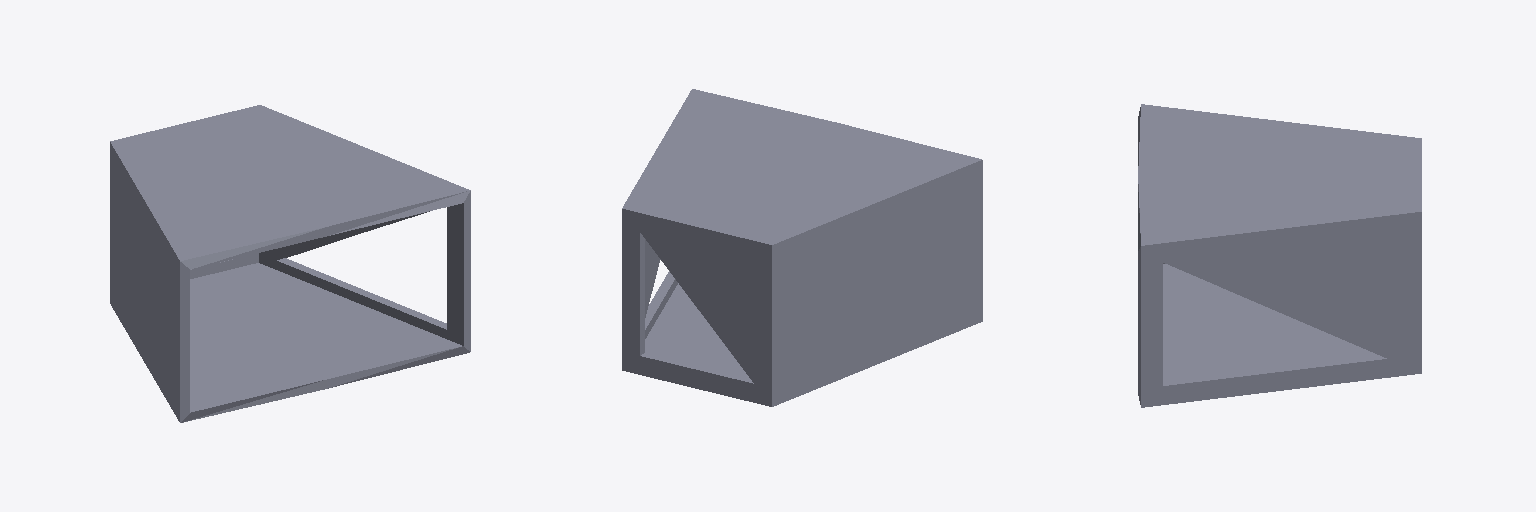
The model's file is observatory2.obj.
3 renders of one model, left to right at view 1: azimuth 30°, elevation 25°; view 2: azimuth 150°, elevation 25°; view 3: azimuth 270°, elevation 25°, orthographic.
Parts seen in each view (by area): view 1: observatory_windows_s2 ship_v2 ship; view 2: observatory_windows_s2 ship_v2 ship; view 3: observatory_windows_s2 ship_v2 ship.
Part boxes in pixels (x1,y1,x2,y2): observatory_windows_s2 ship_v2 ship: (110, 105, 470, 422); observatory_windows_s2 ship_v2 ship: (622, 89, 982, 406); observatory_windows_s2 ship_v2 ship: (1138, 104, 1421, 407).
Bounding box in the file's own units: 6.38 × 3.4 × 5.4.